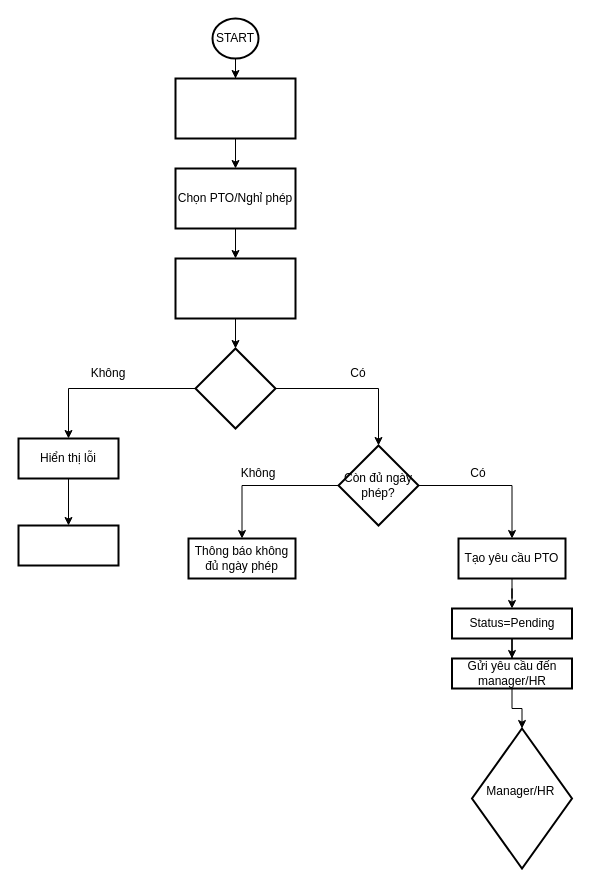
Some shapes in this 590 by 886 pixel diagram are drawn without their labels. The shapes that lost their labels are listed below. From the top down, each one's centre as x and y in pixels, then its label:
(235,108): Employee đăng nhập
(235,288): Nhập thông tin nghỉ phép
(235,388): Thông tin hợp lệ?
(68,545): Nhập lại thông tin
